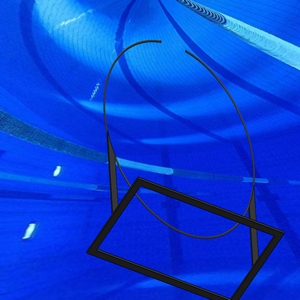circle: (86, 39, 286, 299)
